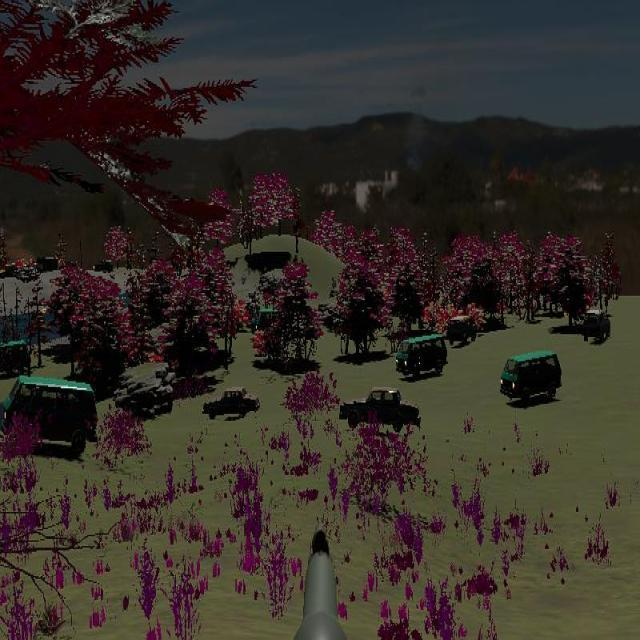car: (0, 375, 97, 456), (339, 387, 421, 432), (500, 349, 562, 407), (395, 333, 448, 379), (201, 386, 260, 421), (0, 338, 31, 378), (446, 314, 476, 346)
